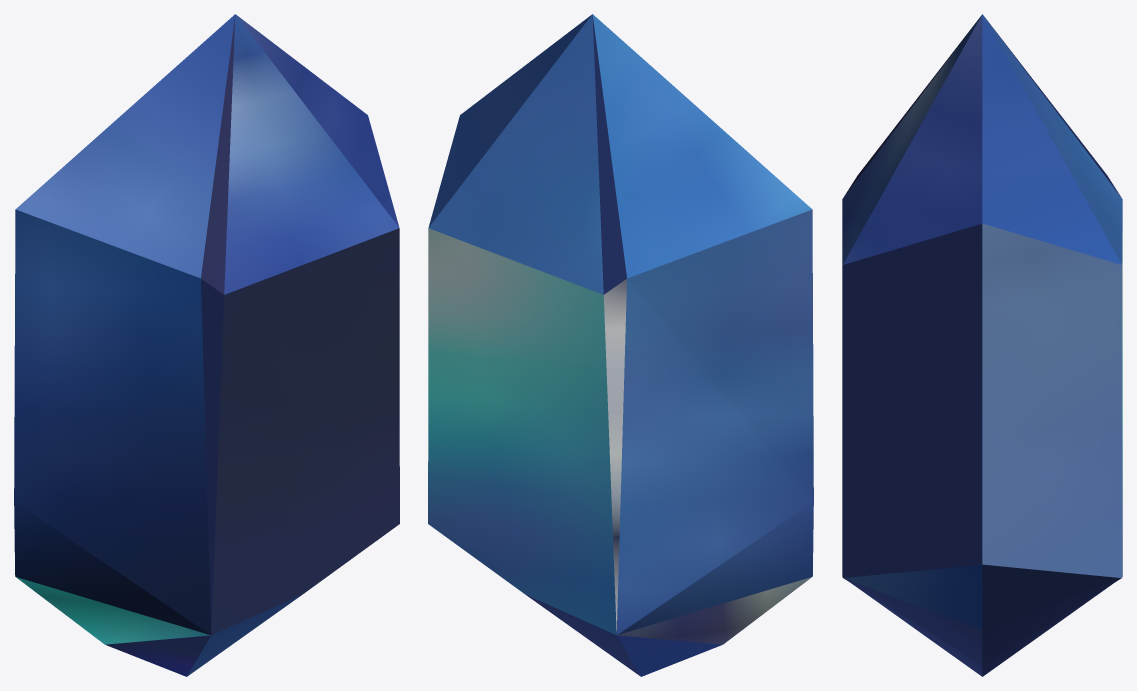
The model's file is shuiJing2.fbx.
3 views of the same model, side by side, from view 1: azimuth 30°, elevation 25°; view 2: azimuth 150°, elevation 25°; view 3: azimuth 270°, elevation 25° (orthographic). The views are drawn at different scales.
Parts seen in each view (by area): view 1: shuijing2b; view 2: shuijing2b; view 3: shuijing2b.
Boxes of the visible parts, box(x1,y1,x2,y2) form: shuijing2b: box(14, 14, 399, 676); shuijing2b: box(428, 14, 813, 676); shuijing2b: box(842, 14, 1122, 676).
Bounding box in the file's own units: 3.86 × 6.78 × 2.51.
